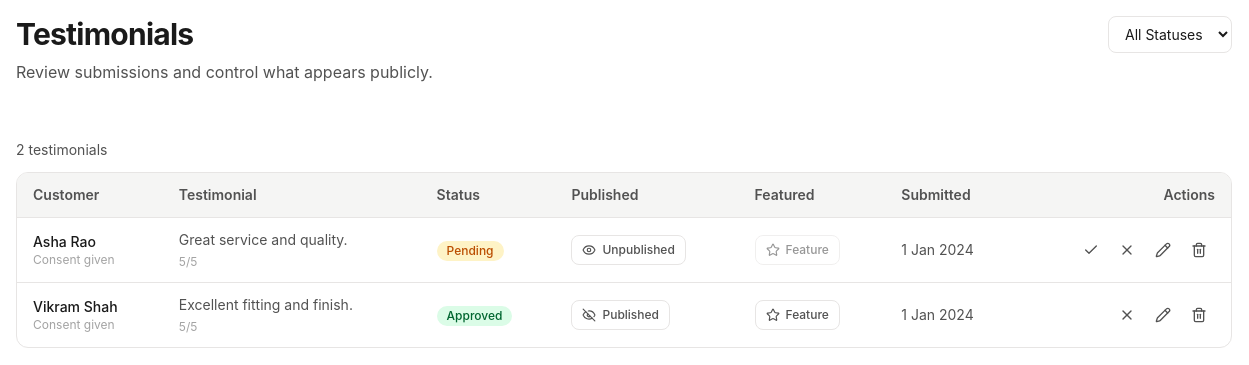
it: TestimonialsAdminPage › approves a pending testimonial
This screenshot has width=1249, height=365.
Expected: the text "Asha Rao" is shown, [33,233,96,250]
Click the button named "approve testimonial from asha rao". click: click(1091, 250)
box: [1075,234,1107,266]
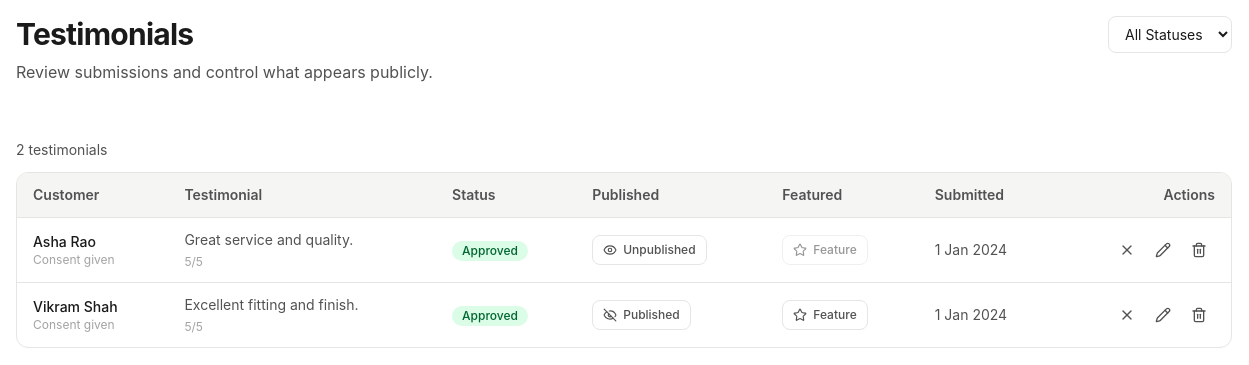
Expected: the text "Approved" in the row of "Asha Rao" is shown, [462,242,518,258]
